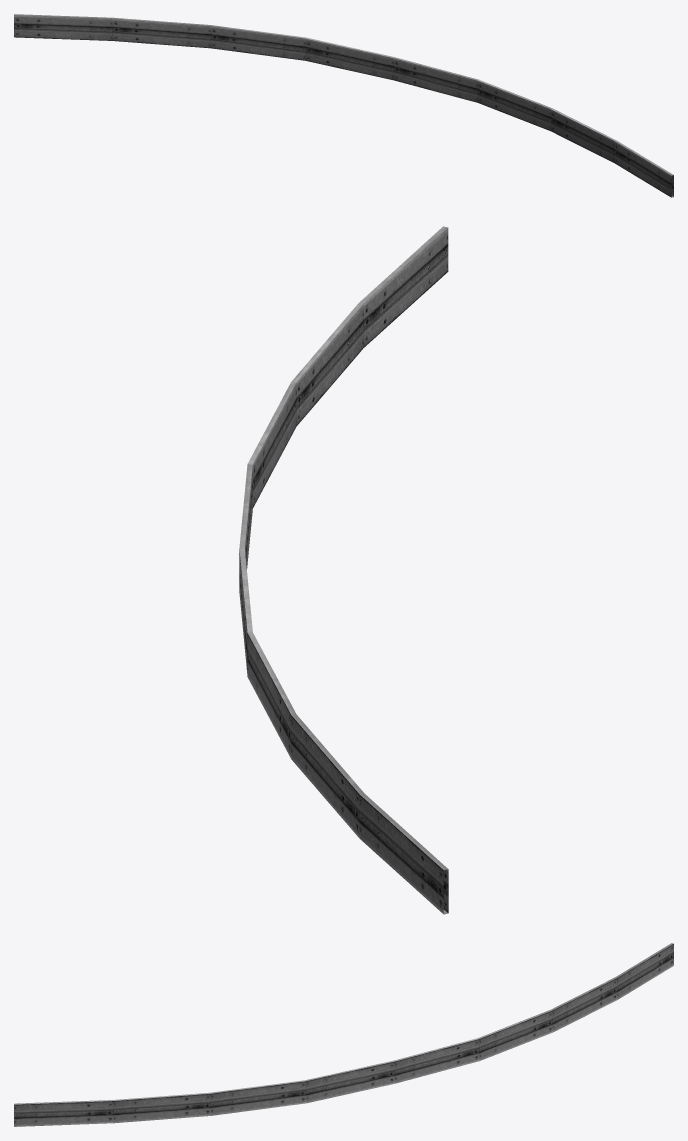
Rendered from 60guard_vs3.FBX.
3 renders of one model, top to bottom at view 1: azimuth 30°, elevation 25°; view 2: azimuth 150°, elevation 25°; view 3: azimuth 270°, elevation 25°, orthographic. The views are drawn at different scales.
Parts seen in each view (by area): view 1: Object012; view 2: Object012; view 3: Object012.
Boxes of the visible parts, left/top/right/bottom form: Object012: left=14, top=14, right=673, bottom=197; Object012: left=239, top=226, right=448, bottom=914; Object012: left=14, top=943, right=673, bottom=1126.
Bounding box in the file's own units: 1506 × 96.2 × 2598.
